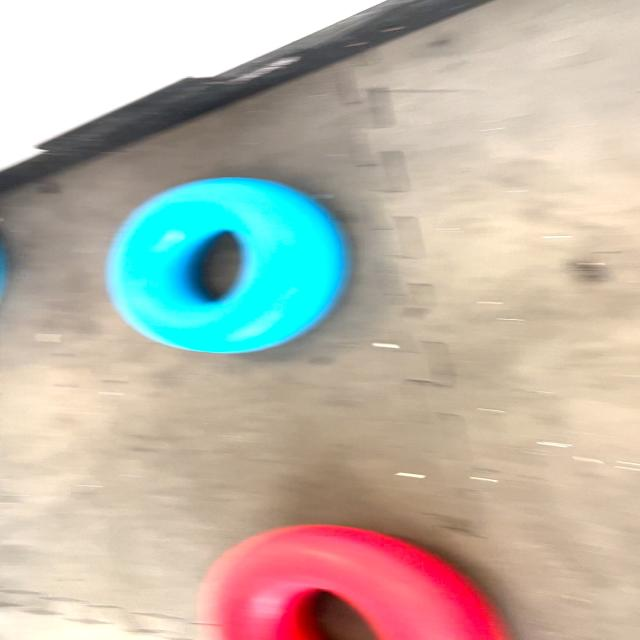Blue-Ring: (107, 178, 349, 352)
Red-Ring: (198, 525, 511, 640)
